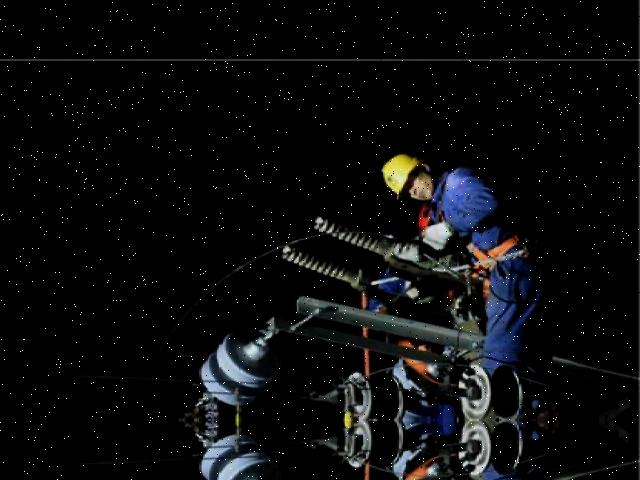Helmet: (378, 146, 442, 205)
